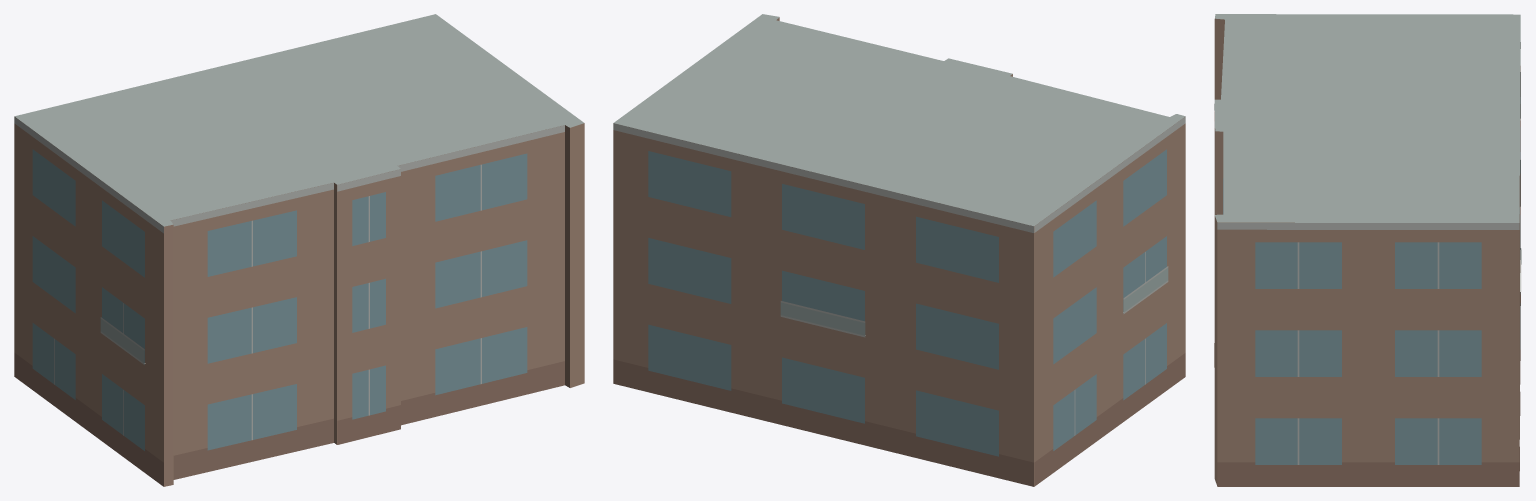
File: survey-upis-32953535.glb
The picture shows the model from 3 angles, left to right: view 1: azimuth 30°, elevation 25°; view 2: azimuth 150°, elevation 25°; view 3: azimuth 270°, elevation 25°; orthographic projection.
Parts seen in each view (by area): view 1: survey-upis-32953535.tmp; view 2: survey-upis-32953535.tmp; view 3: survey-upis-32953535.tmp.
Part boxes in pixels (x1,y1,x2,y2): survey-upis-32953535.tmp: (14,14,584,486); survey-upis-32953535.tmp: (613,14,1185,486); survey-upis-32953535.tmp: (1214,14,1521,486).
Bounding box in the file's own units: 15.56 × 9.15 × 9.65.
